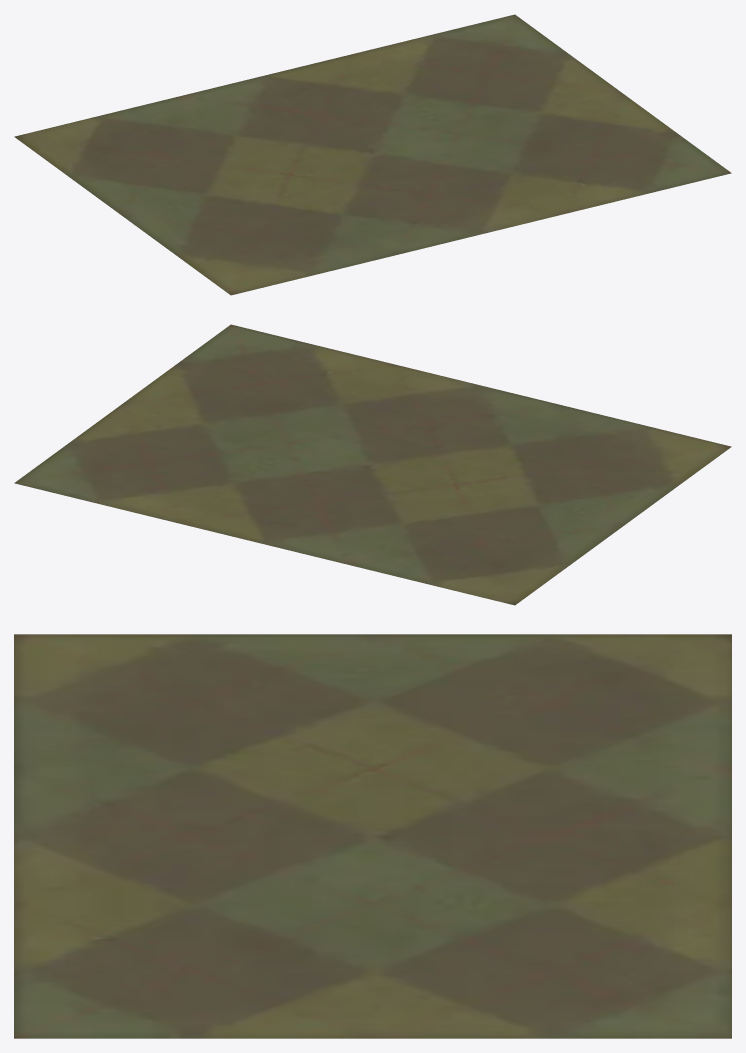
3 renders of one model, top to bottom at view 1: azimuth 30°, elevation 25°; view 2: azimuth 150°, elevation 25°; view 3: azimuth 270°, elevation 25°, orthographic. The views are drawn at different scales.
Size of the model in its own units: 40 by 0.0293 by 30.
1 material, 1 textured.
